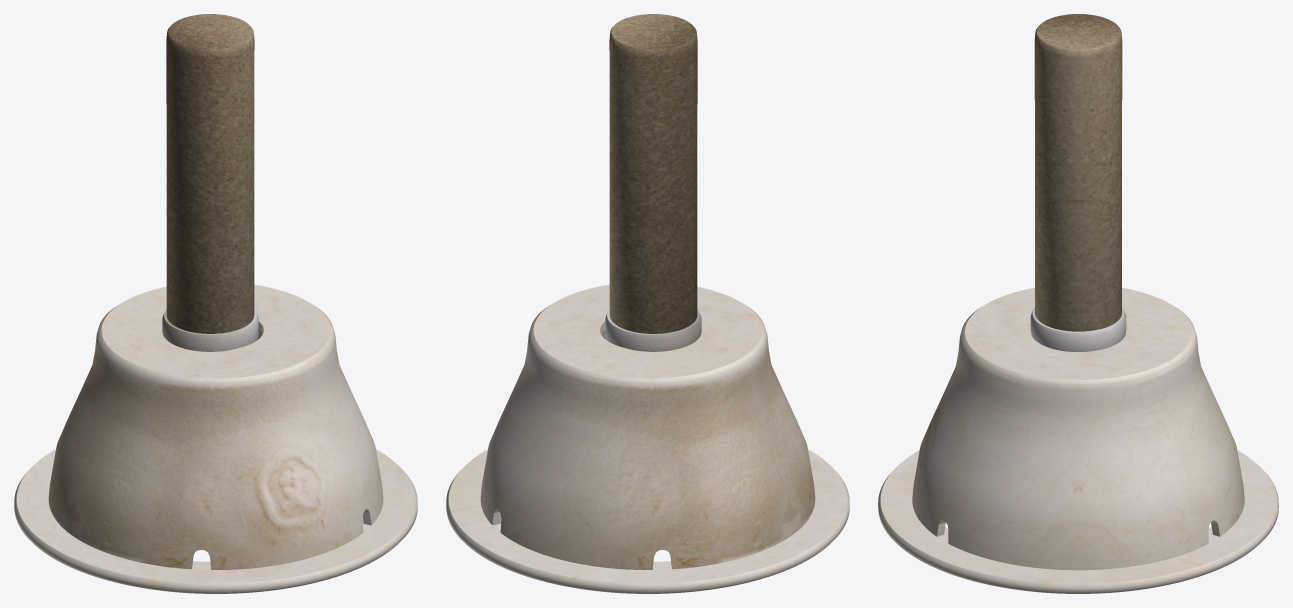
The model's file is moxibustion-device.glb.
The picture shows the model from 3 angles, left to right: view 1: azimuth 30°, elevation 25°; view 2: azimuth 150°, elevation 25°; view 3: azimuth 270°, elevation 25°; orthographic projection.
Parts seen in each view (by area): view 1: 空心纸纤维罩 · 四处通气缺口.002, 褐色艾柱.002, 宽底纸纤维法兰.002, 顶部白色套环.002; view 2: 空心纸纤维罩 · 四处通气缺口.002, 褐色艾柱.002, 宽底纸纤维法兰.002, 顶部白色套环.002; view 3: 空心纸纤维罩 · 四处通气缺口.002, 褐色艾柱.002, 宽底纸纤维法兰.002, 顶部白色套环.002.
Boxes of the visible parts, bbox=[...] form: 空心纸纤维罩 · 四处通气缺口.002: bbox=[48, 284, 383, 569]; 褐色艾柱.002: bbox=[166, 14, 254, 333]; 宽底纸纤维法兰.002: bbox=[14, 449, 417, 593]; 顶部白色套环.002: bbox=[162, 309, 258, 351]; 空心纸纤维罩 · 四处通气缺口.002: bbox=[480, 284, 815, 569]; 褐色艾柱.002: bbox=[609, 14, 697, 333]; 宽底纸纤维法兰.002: bbox=[446, 449, 849, 593]; 顶部白色套环.002: bbox=[605, 309, 701, 351]; 空心纸纤维罩 · 四处通气缺口.002: bbox=[912, 288, 1244, 570]; 褐色艾柱.002: bbox=[1034, 14, 1122, 331]; 宽底纸纤维法兰.002: bbox=[878, 450, 1278, 593]; 顶部白色套环.002: bbox=[1030, 307, 1126, 351].
Size of the model in its own units: 0.12 by 0.1573 by 0.12.
Materials: 4 (4 with a texture image).
